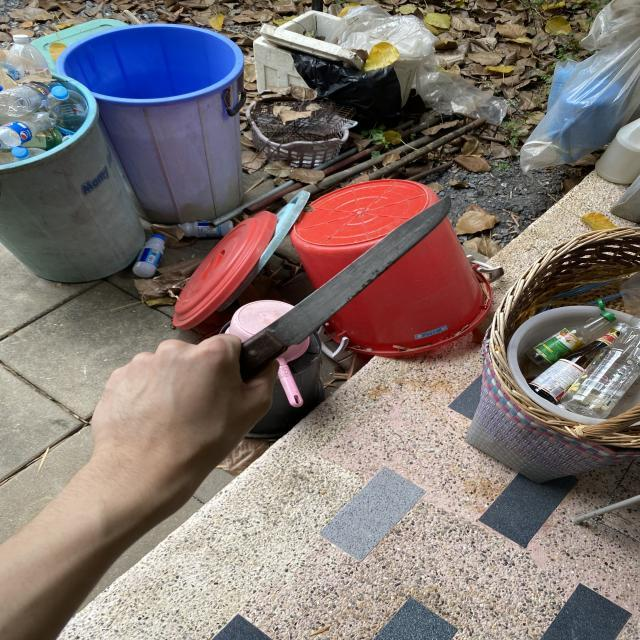faca: (49, 186, 473, 470)
